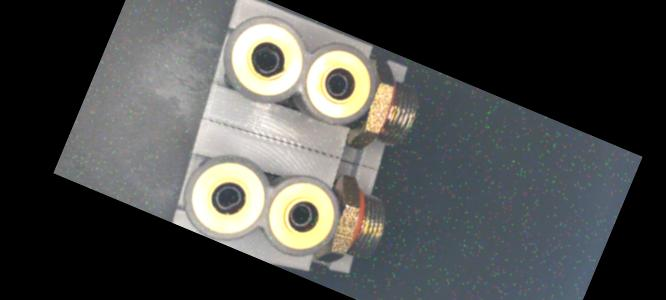off-centered: (207, 177, 249, 218), (245, 40, 286, 79)
